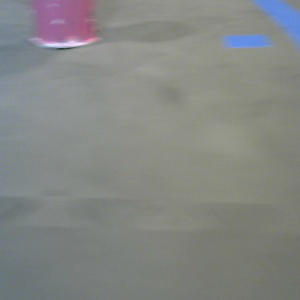middle: (24, 1, 105, 52)
